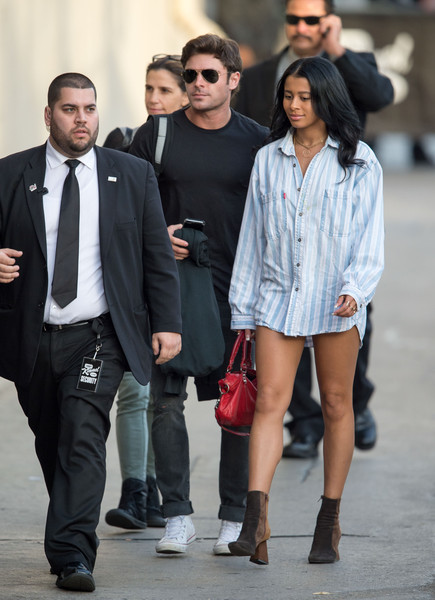Person: (1, 71, 183, 593), (228, 56, 385, 567), (128, 33, 271, 555)
